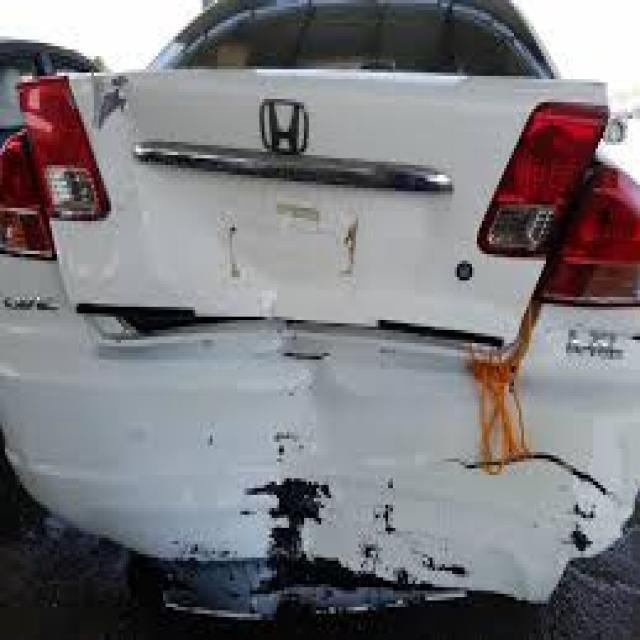damaged-trunk: (16, 61, 594, 364)
